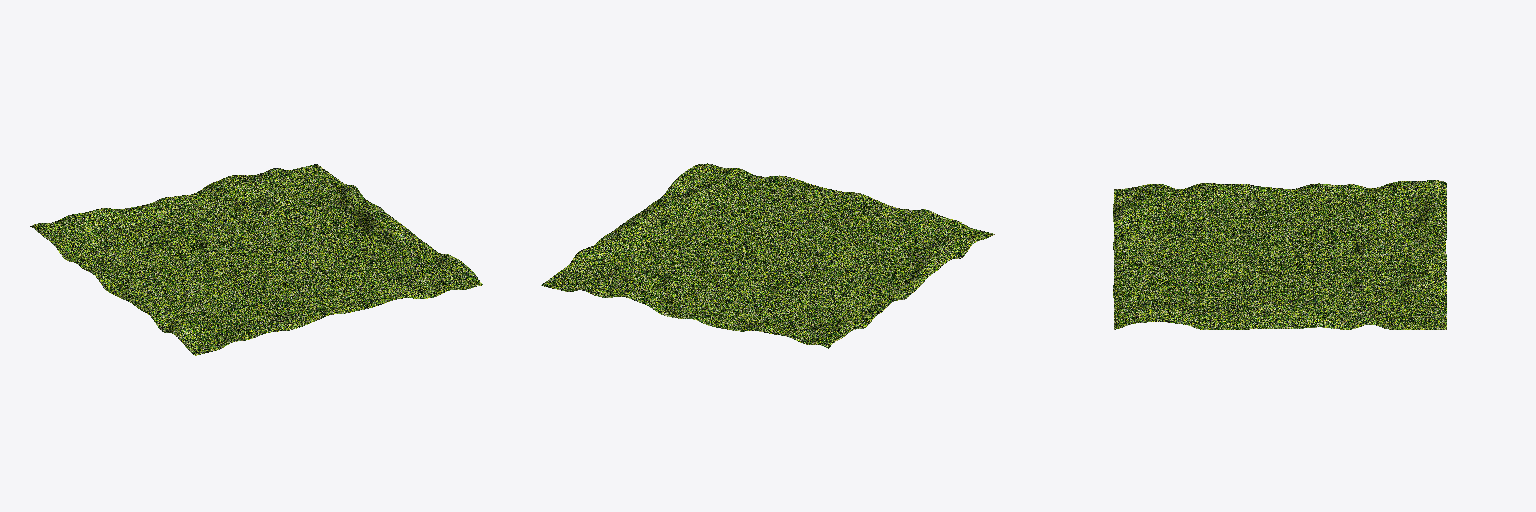
The picture shows the model from 3 angles: view 1: azimuth 30°, elevation 25°; view 2: azimuth 150°, elevation 25°; view 3: azimuth 270°, elevation 25°; orthographic projection.
Visible parts, largest first — view 1: Plane.001; view 2: Plane.001; view 3: Plane.001.
Part boxes in pixels (bbox=[...]): Plane.001: bbox=[30, 164, 482, 355]; Plane.001: bbox=[541, 163, 994, 348]; Plane.001: bbox=[1113, 180, 1446, 329].
Size of the model in its own units: 179 by 13.77 by 180.
1 materials, 1 textured.